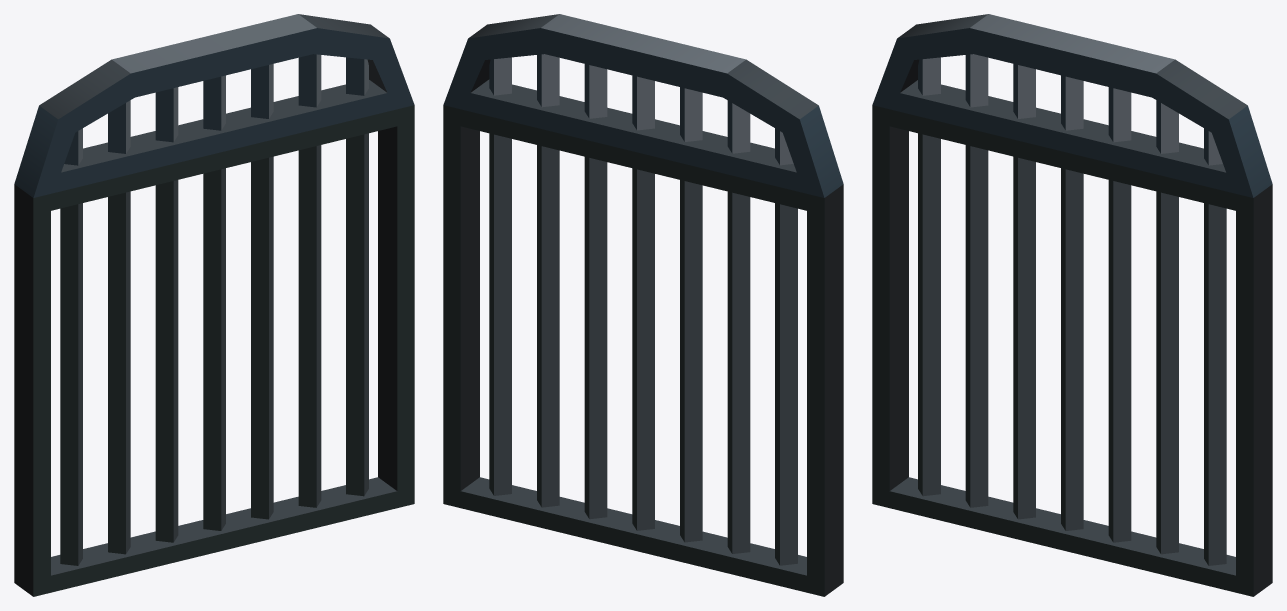
File: jail_bars_arch_double.fbx
3 views of the same model, side by side, from view 1: azimuth 30°, elevation 25°; view 2: azimuth 150°, elevation 25°; view 3: azimuth 330°, elevation 25° (orthographic).
Parts seen in each view (by area): view 1: jail_bars_arch_double; view 2: jail_bars_arch_double; view 3: jail_bars_arch_double.
Boxes of the visible parts, x1,y1,x2,y2 form: jail_bars_arch_double: (14,14,414,596); jail_bars_arch_double: (443,14,843,596); jail_bars_arch_double: (872,14,1272,596).
Bounding box in the file's own units: 200 × 251 × 17.42.
